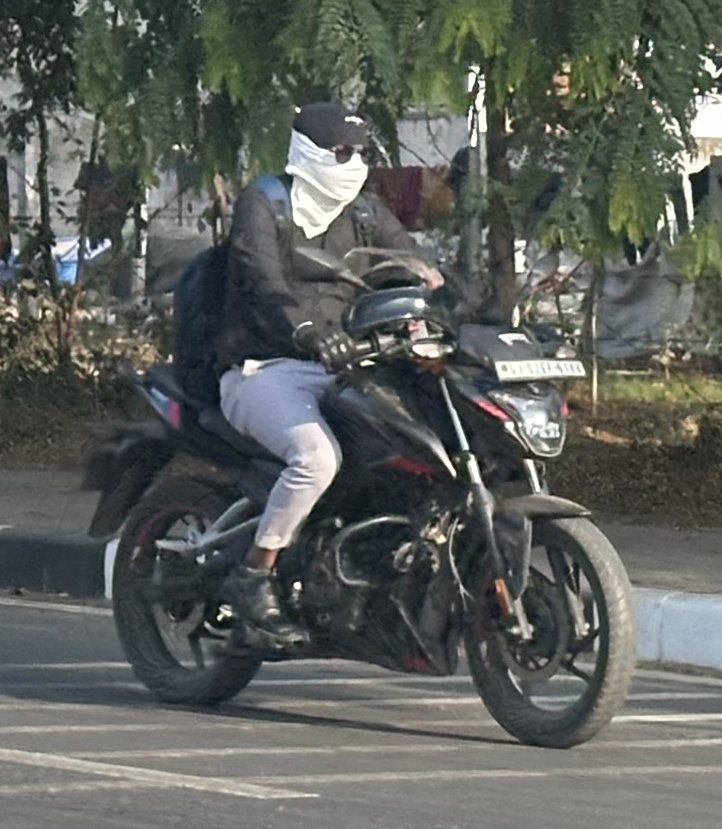BikeWithRider: (74, 86, 632, 757)
NoHelmet: (283, 101, 389, 214)
